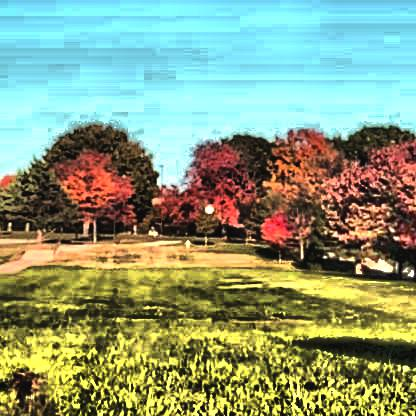golfball: (201, 200, 213, 214)
